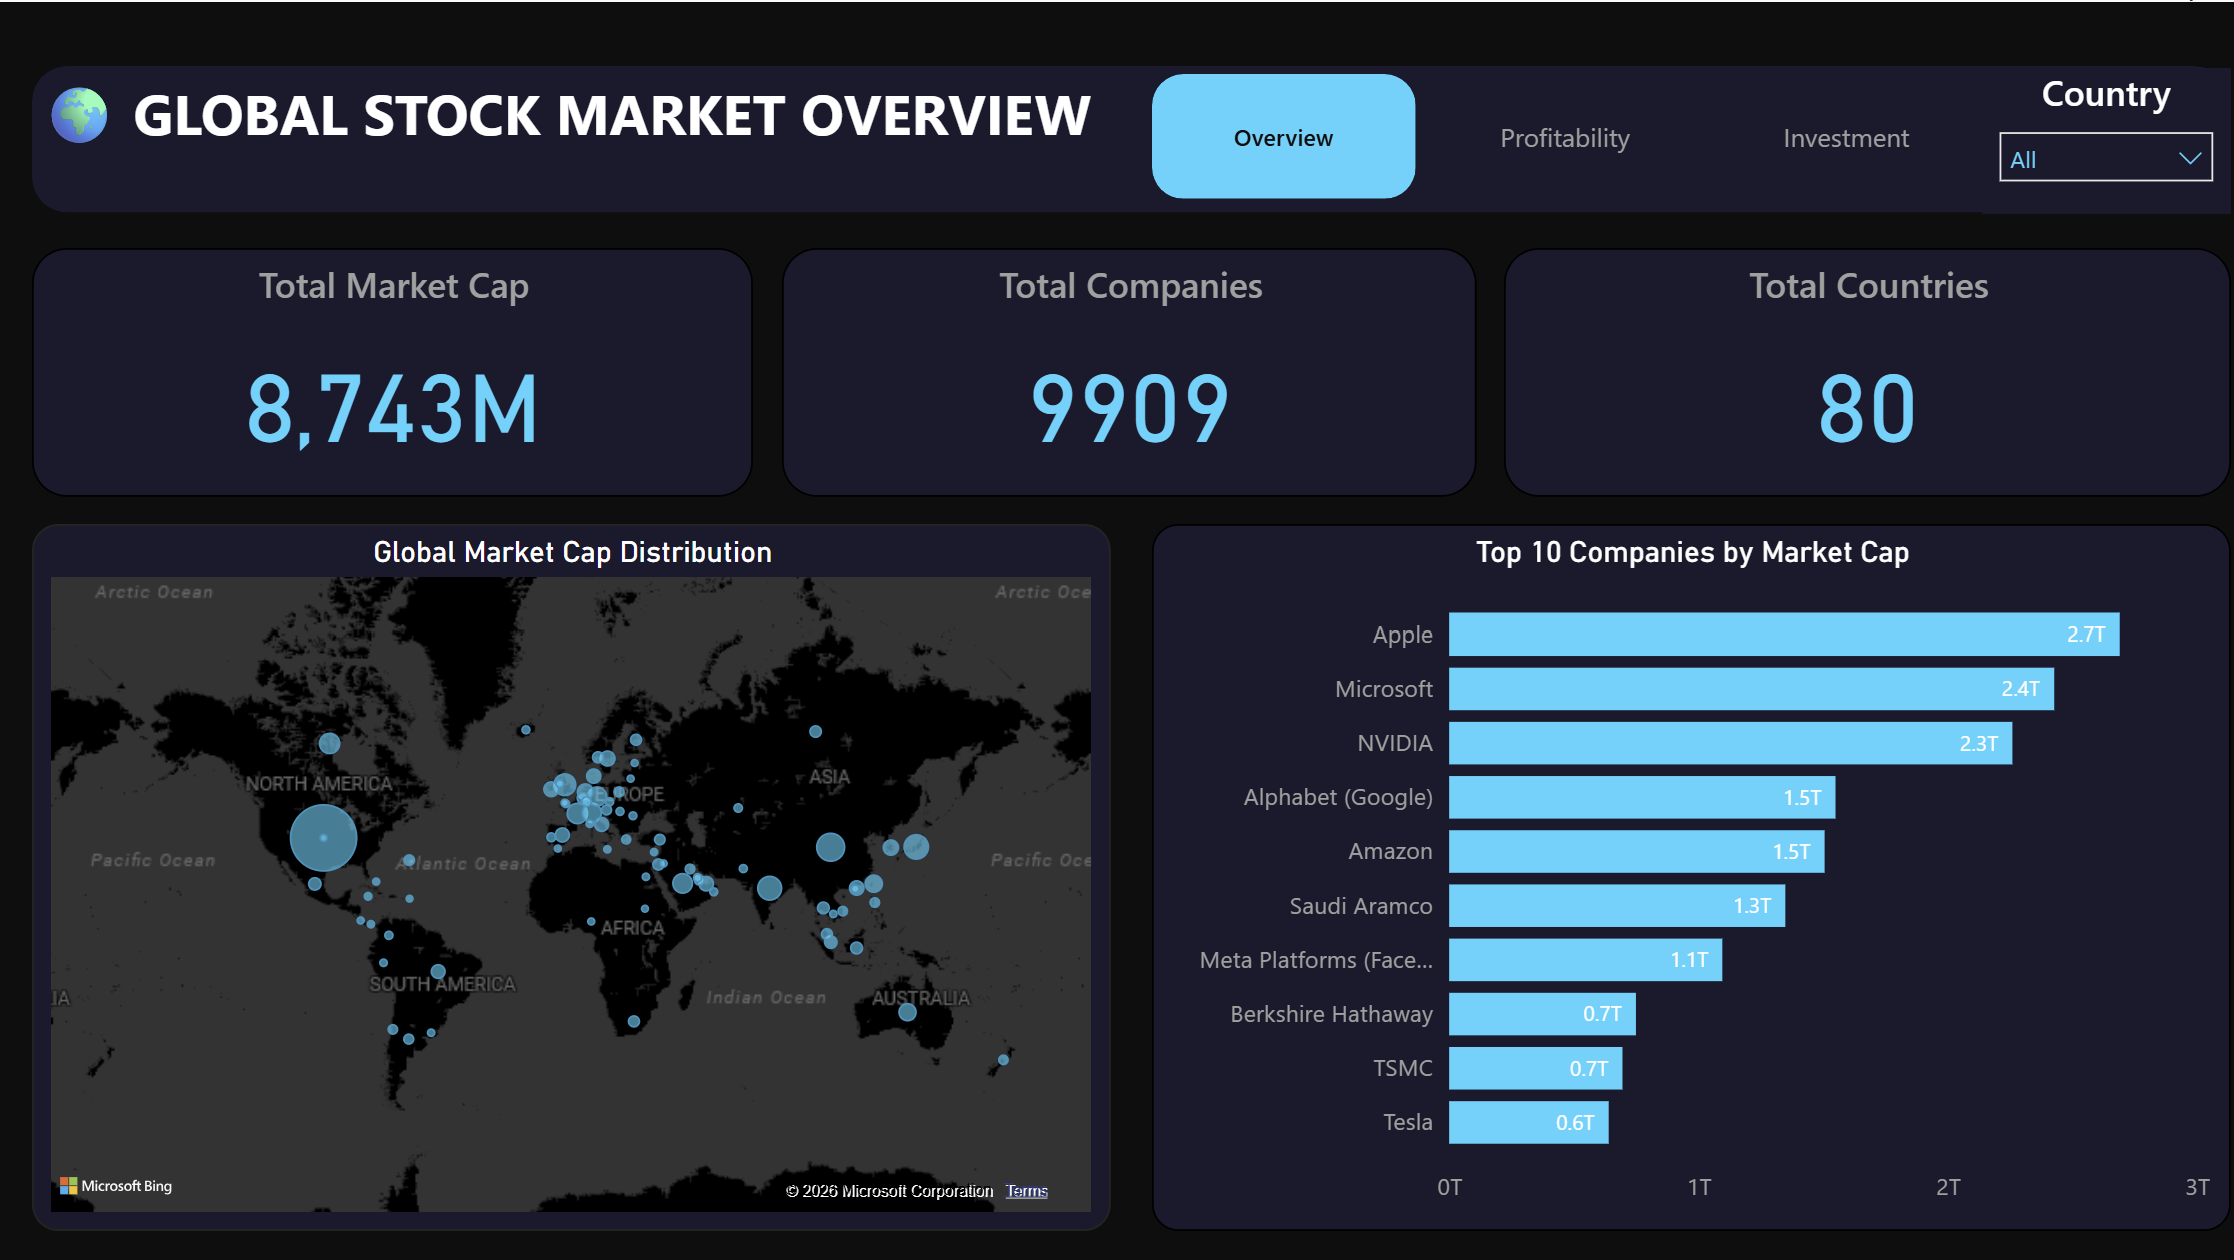

The page's visual inventory and layout, read from the dashboard file:
{"tool":"powerbi","page":{"name":" Overview","canvas":[1280,720],"ordinal":0},"visuals":[{"type":"shape","box":[18.3,36.7,1250,83.3],"z":0},{"type":"textbox","box":[18.8,36.2,625,83.8],"z":1000},{"type":"card","title":"Total Market Cap","fields":{"Values":["Avg(Fact_Companies.marketcap)"]},"box":[18.3,140,410,141.7],"z":2000},{"type":"card","title":"Total Companies","fields":{"Values":["Count(Fact_Companies.Name)"]},"box":[445,140,395,141.7],"z":3000},{"type":"card","title":"Total Countries","fields":{"Values":["CountNonNull(Dim_Country.country)"]},"box":[855,140,413.3,141.7],"z":4000},{"type":"map","title":"Global Market Cap Distribution","fields":{"Category":["Dim_Country.country"],"Size":["Sum(Fact_Companies.marketcap)"]},"box":[18.3,296.7,613.3,401.7],"z":5000},{"type":"clusteredBarChart","title":"Top 10 Companies by Market Cap","fields":{"Category":["Fact_Companies.Name"],"Y":["Sum(Fact_Companies.marketcap)"]},"box":[655,296.7,613.3,401.7],"z":6000},{"type":"slicer","title":"Country","fields":{"Values":["Dim_Country.country"]},"box":[1127.1,37.1,141.4,82.9],"z":7000},{"type":"pageNavigator","box":[655,41.2,472,71],"z":8000}]}

Visuals, with their boxes in screenshot pixels (x1, y1, x2, y2), scaled from the page's 1280x720 canvas onto the 2234x1260 screenshot:
shape: [32, 64, 2214, 210]
textbox: [33, 63, 1124, 210]
"Total Market Cap" card: [32, 245, 748, 493]
"Total Companies" card: [777, 245, 1466, 493]
"Total Countries" card: [1492, 245, 2214, 493]
"Global Market Cap Distribution" map: [32, 519, 1102, 1222]
"Top 10 Companies by Market Cap" clusteredBarChart: [1143, 519, 2214, 1222]
"Country" slicer: [1967, 65, 2214, 210]
pageNavigator: [1143, 72, 1967, 196]
